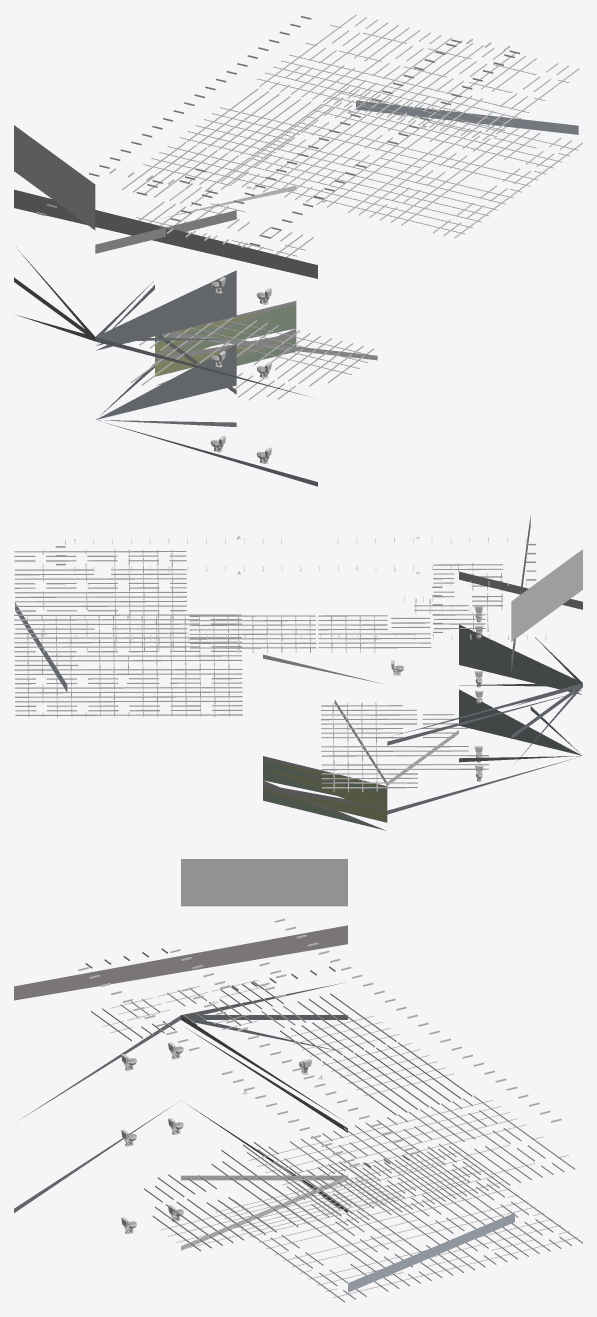
Rendered from pt-111-puesto-mando-shell-p05-v00.glb.
The picture shows the model from 3 angles, top to bottom: view 1: azimuth 30°, elevation 25°; view 2: azimuth 150°, elevation 25°; view 3: azimuth 270°, elevation 25°; orthographic projection. The views are drawn at different scales.
Parts seen in each view (by area): view 1: object 4, object 3, object 1; view 2: object 4, object 1, object 3, 3hhqu3yI5BK9K0jjGxbM0O, 3hhqu3yI5BK9K0jjGxbM1s, 3hhqu3yI5BK9K0jjGxbM1o, 3hhqu3yI5BK9K0jjGxbM1C, 3hhqu3yI5BK9K0jjGxbM1u, 3hhqu3yI5BK9K0jjGxbM1e, 3hhqu3yI5BK9K0jjGxbM1q; view 3: object 1, object 3, object 4.
Boxes of the visible parts, x1,y1,x2,y2 form: object 4: [14, 100, 578, 486]; object 3: [14, 189, 317, 278]; object 1: [14, 125, 377, 394]; object 4: [15, 602, 582, 830]; object 1: [334, 549, 582, 785]; object 3: [459, 515, 582, 672]; 3hhqu3yI5BK9K0jjGxbM0O: [15, 714, 242, 715]; 3hhqu3yI5BK9K0jjGxbM1s: [15, 696, 242, 697]; 3hhqu3yI5BK9K0jjGxbM1o: [15, 687, 242, 688]; 3hhqu3yI5BK9K0jjGxbM1C: [14, 655, 241, 656]; 3hhqu3yI5BK9K0jjGxbM1u: [14, 673, 242, 674]; 3hhqu3yI5BK9K0jjGxbM1e: [15, 700, 242, 702]; 3hhqu3yI5BK9K0jjGxbM1q: [15, 691, 242, 693]; object 1: [181, 859, 347, 1250]; object 3: [14, 925, 347, 1000]; object 4: [14, 982, 514, 1292].
Size of what is drawn, in the model's own units: 32.66 by 16 by 27.26.
